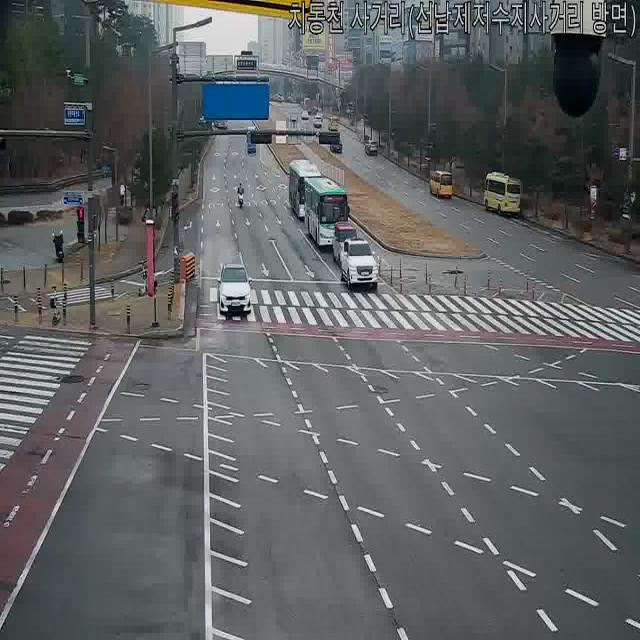Bus: (306, 174, 350, 250), (287, 157, 325, 220), (482, 172, 524, 216), (426, 168, 452, 198), (302, 98, 314, 114)
Car: (216, 264, 254, 320), (339, 238, 378, 289), (482, 172, 524, 216), (332, 223, 361, 265), (426, 168, 452, 198), (245, 127, 258, 156), (364, 139, 378, 155), (317, 130, 329, 146), (331, 134, 341, 152), (329, 116, 339, 131), (329, 115, 339, 130), (289, 111, 298, 124), (314, 115, 322, 129), (299, 109, 309, 119), (272, 93, 282, 103)
Motorcycle: (237, 183, 245, 210)
Truck: (245, 128, 258, 157)
